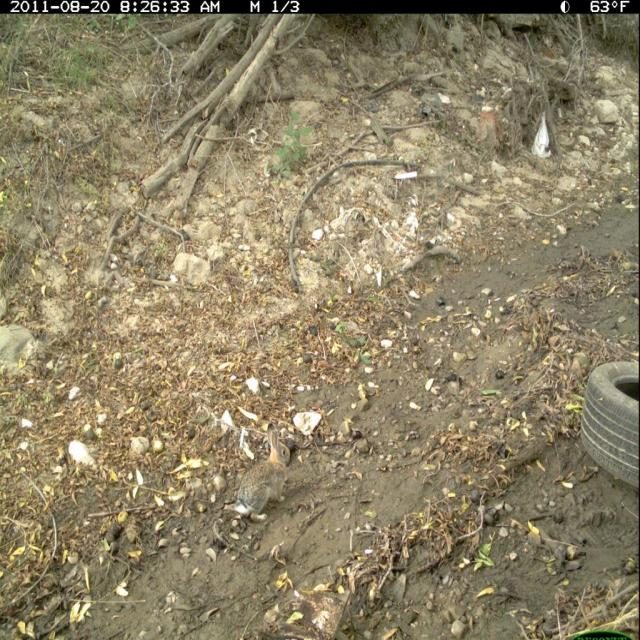rabbit: (230, 418, 294, 528)
